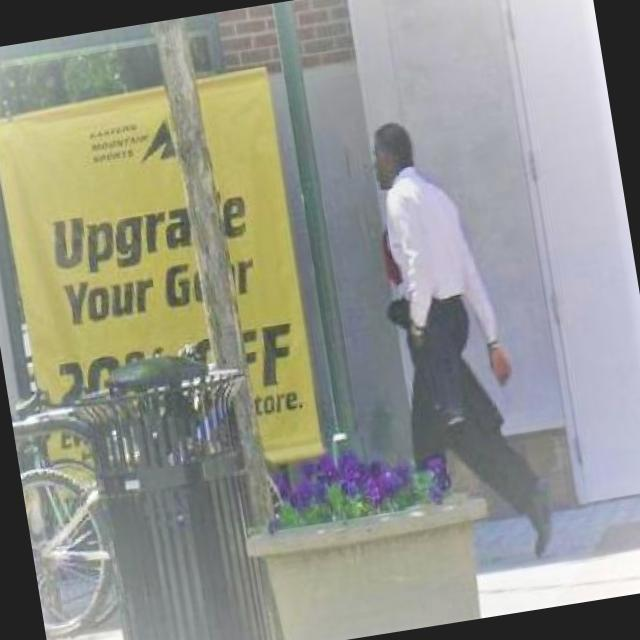Person: (353, 100, 568, 574)
